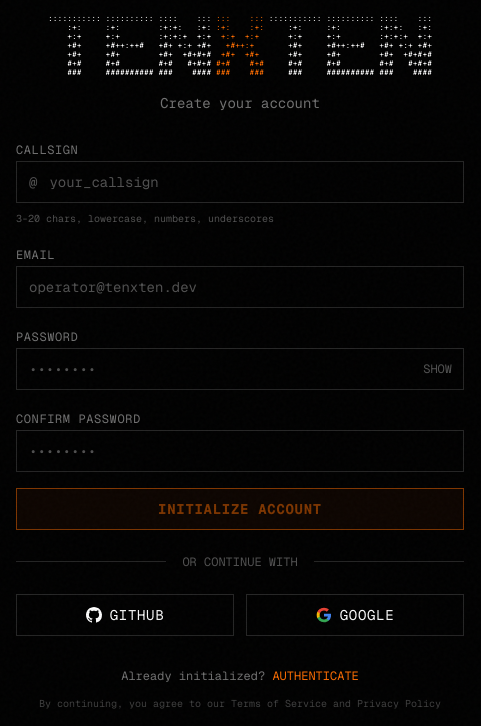
Signup Page › should strip invalid characters from callsign
In the field labelled "Callsign": (256, 182) [49, 162, 463, 202], type "test-user@123"
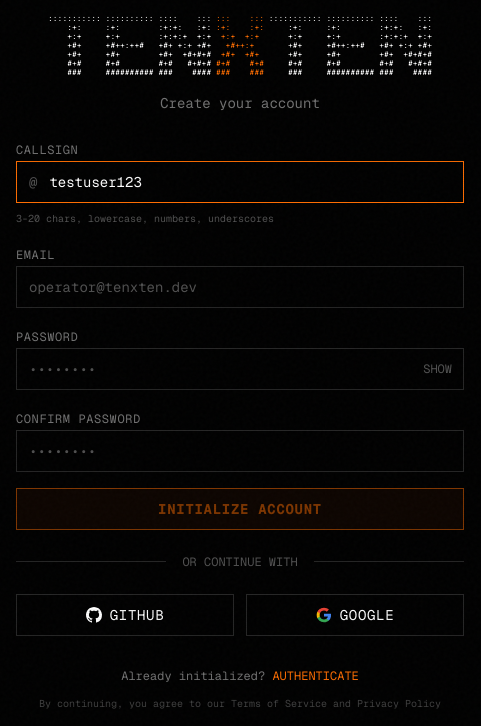
Expected: the field labelled "Callsign" holds "testuser123", [49, 162, 463, 202]
